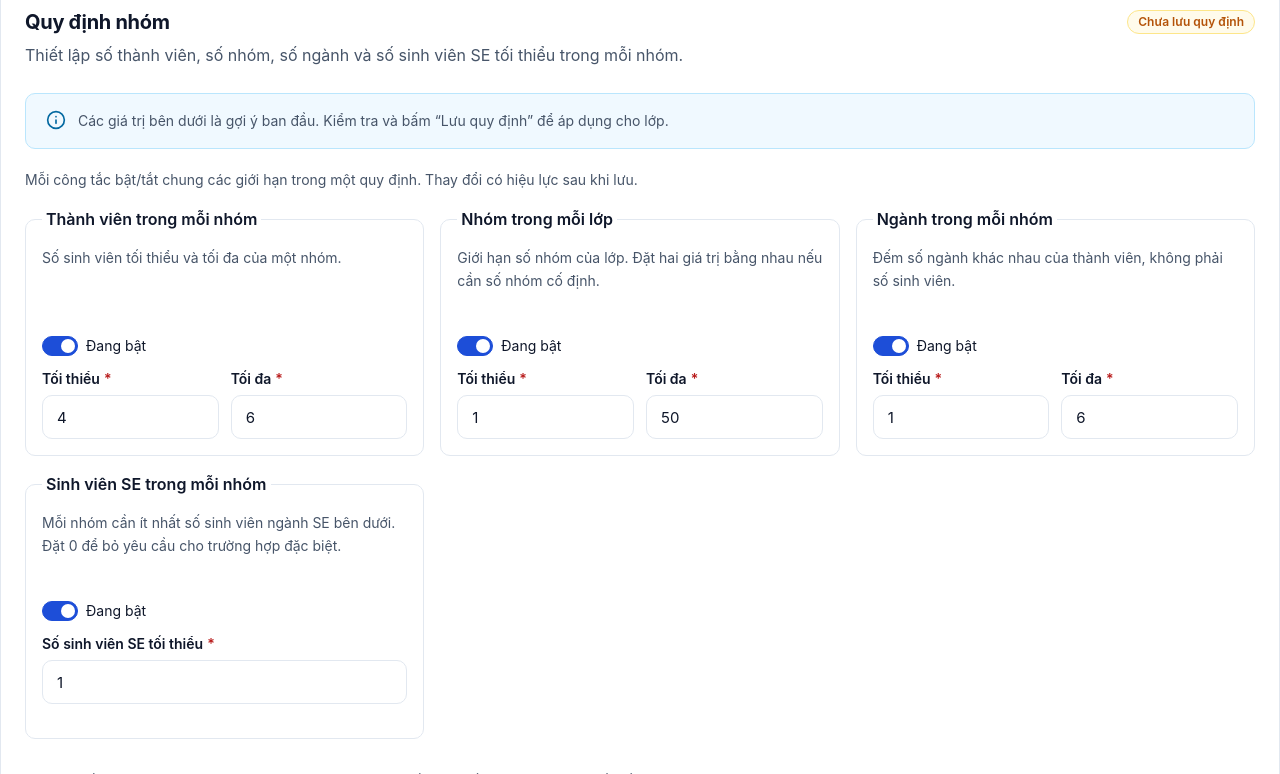
Test: Class grouping rules workflow › toggles all limits of members together and revalidates when enabled
This screenshot has width=1280, height=774.
Replace the text in the number field labelled "Tối thiểu*" below "Thành viên trong mỗi nhóm" with "9" at x=130, y=417, box [42,395,219,439]
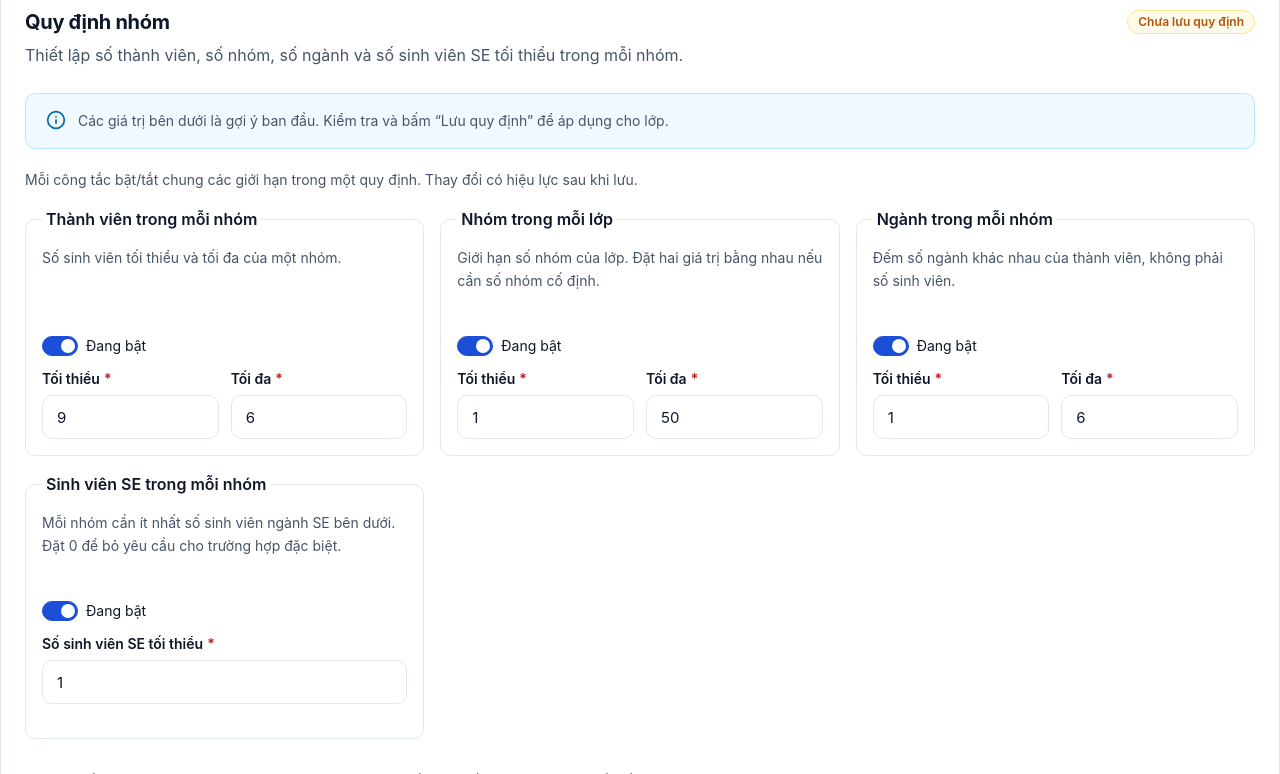
Click the switch labelled "Đang bật" below "Thành viên trong mỗi nhóm" at x=60, y=346, box [42,336,78,356]
(page scrolled)
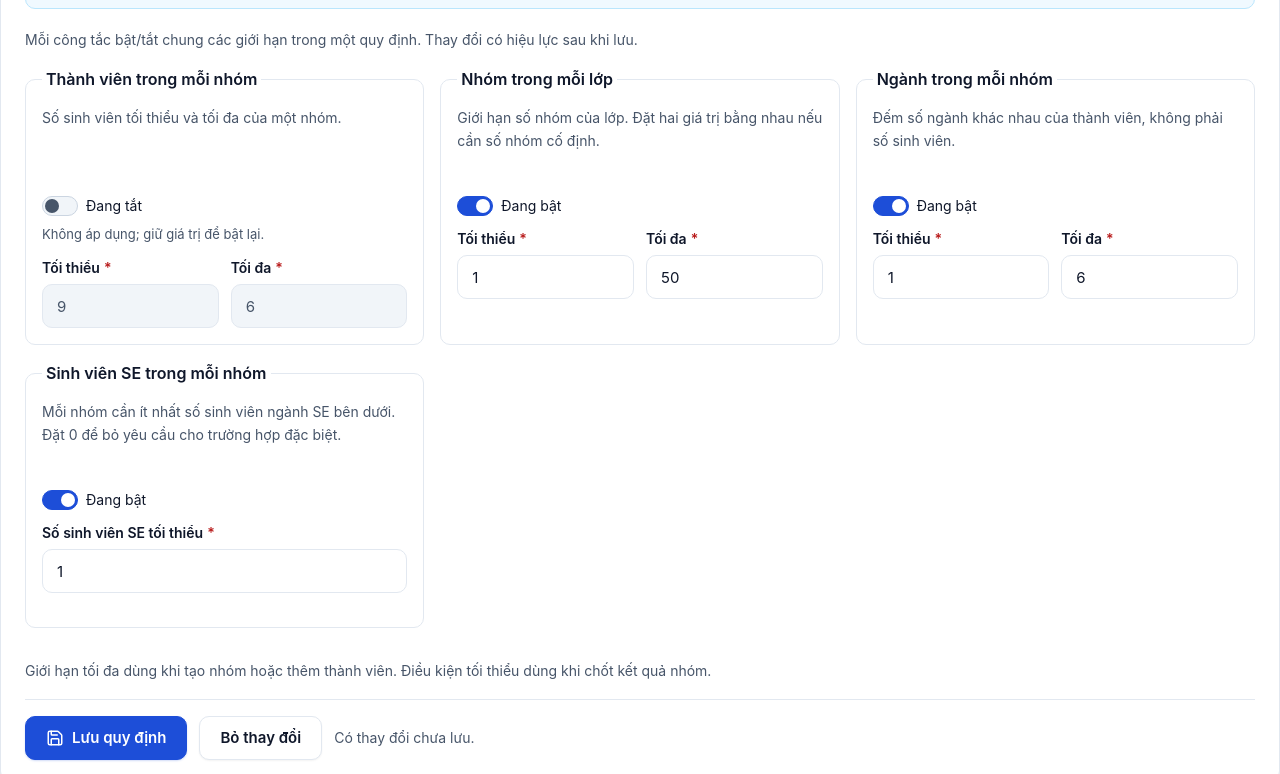
Click the button "Lưu quy định" at x=106, y=738, box [25,716,188,760]
(page scrolled)
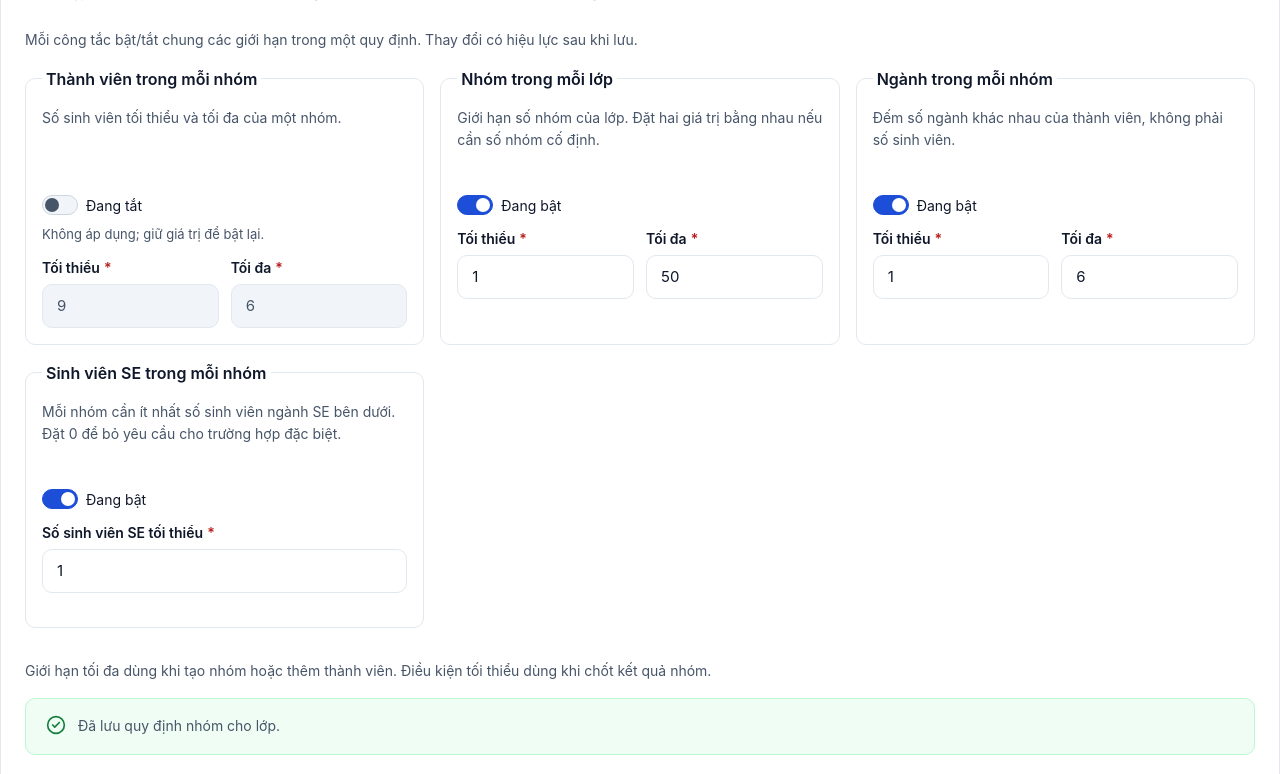
Result: the text "Đã lưu quy định nhóm cho lớp." is shown at [78,715,280,738]
Click the switch labelled "Đang tắt" at x=60, y=206, box [42,196,78,216]
(page scrolled)
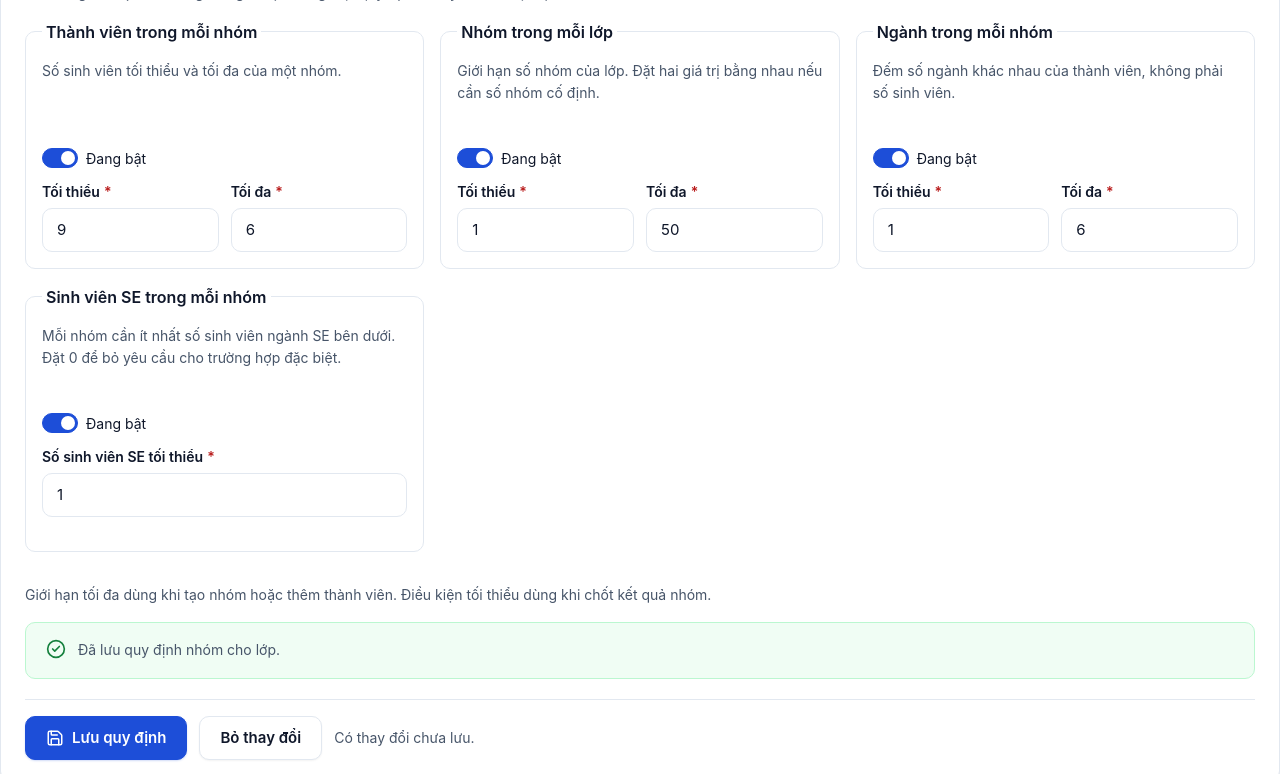
Click the button "Lưu quy định" at x=106, y=738, box [25,716,188,760]
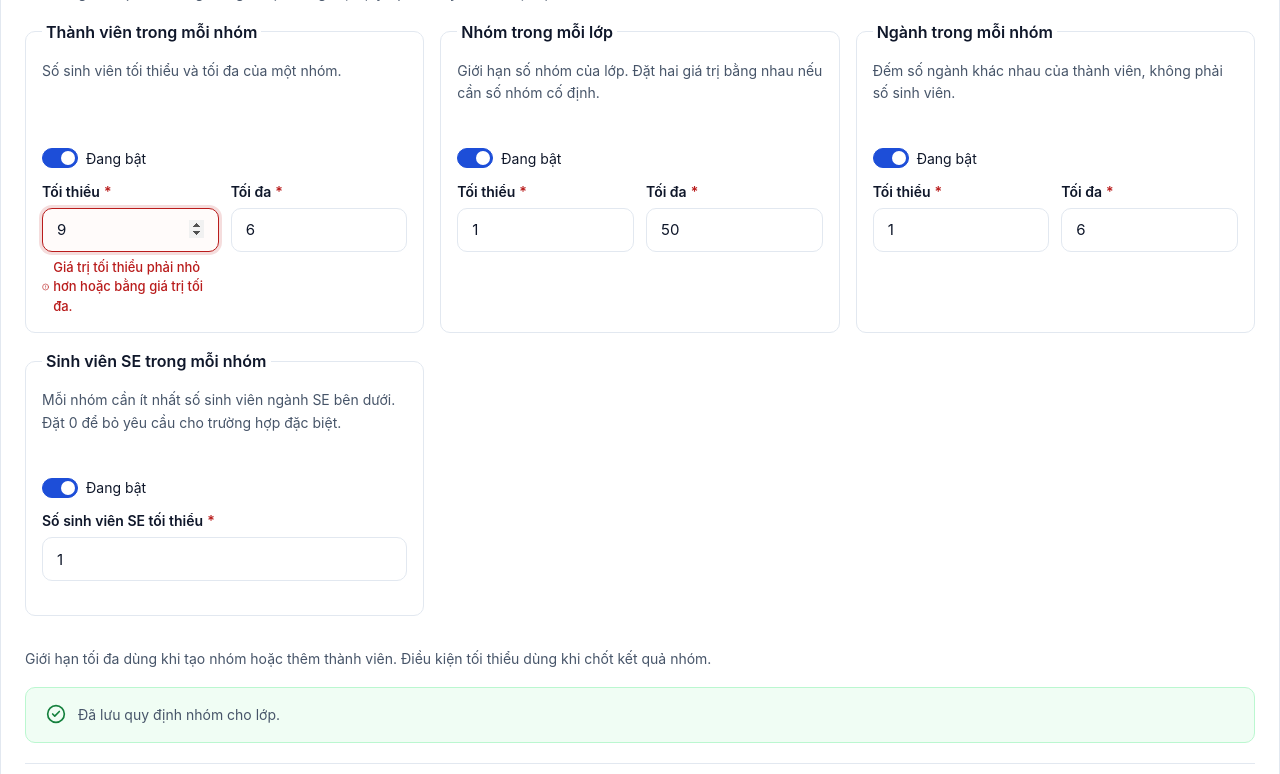
Result: the text "Giá trị tối thiểu phải nhỏ hơn hoặc bằng giá trị tối đa." is shown at [53,258,219,316]
